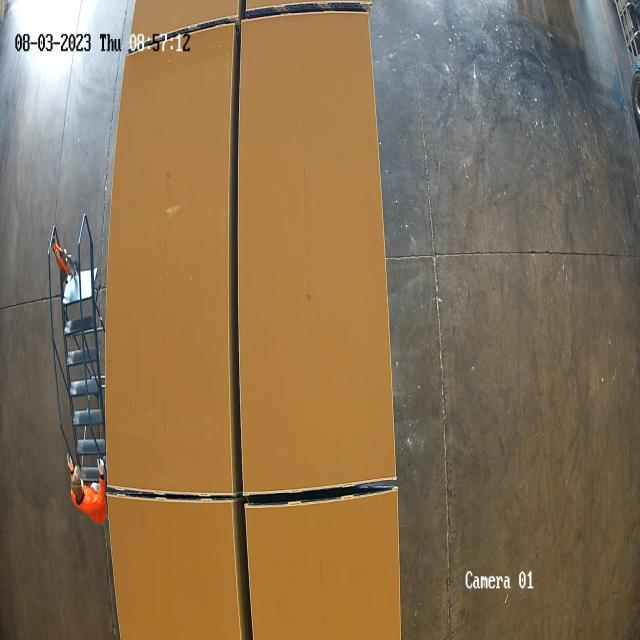person: (61, 456, 108, 530)
